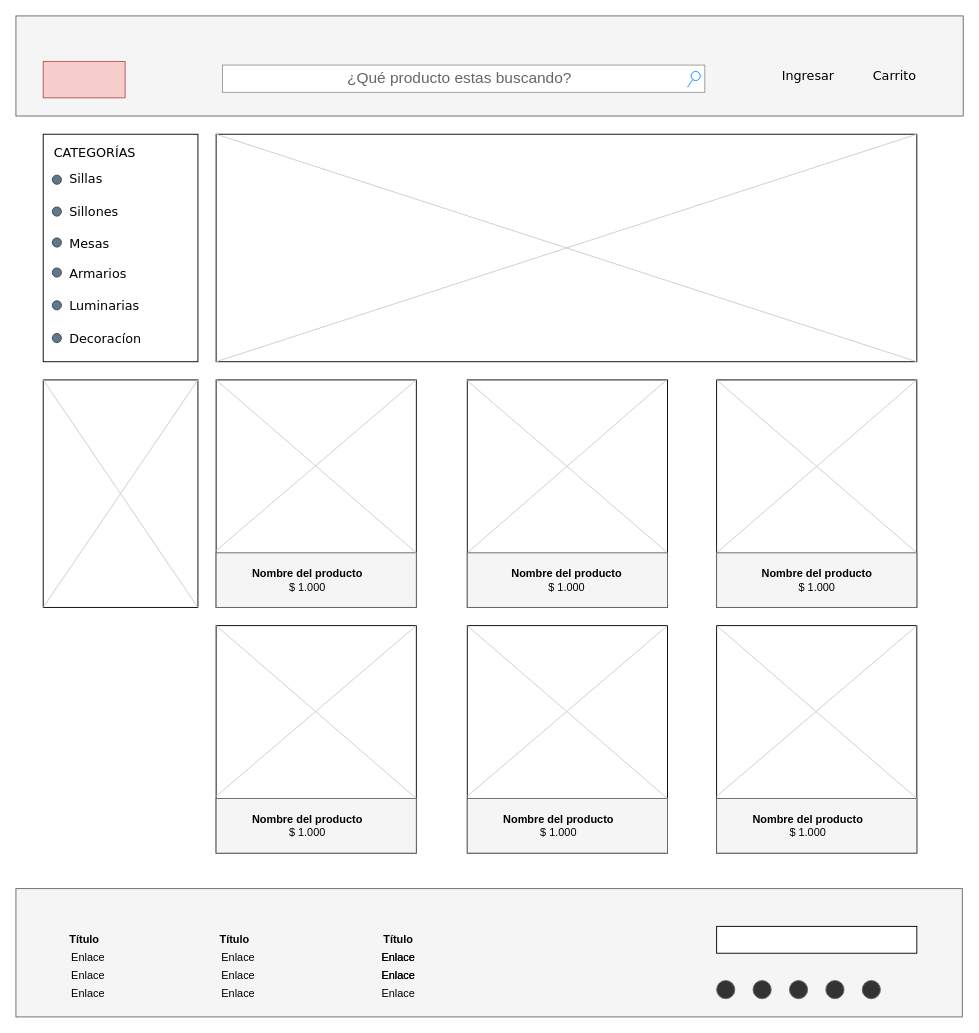
The diagram is 979 pixels wide and 1033 high, and some of its shapes have lost their labels. The centre of each missing label's shape, as x and y in pixels:
"Dejanos tu email" belongs at point 816,939.
"Logo" belongs at point 83,79.
"Título Descripción del artículo $ 1.000" belongs at point 120,493.
